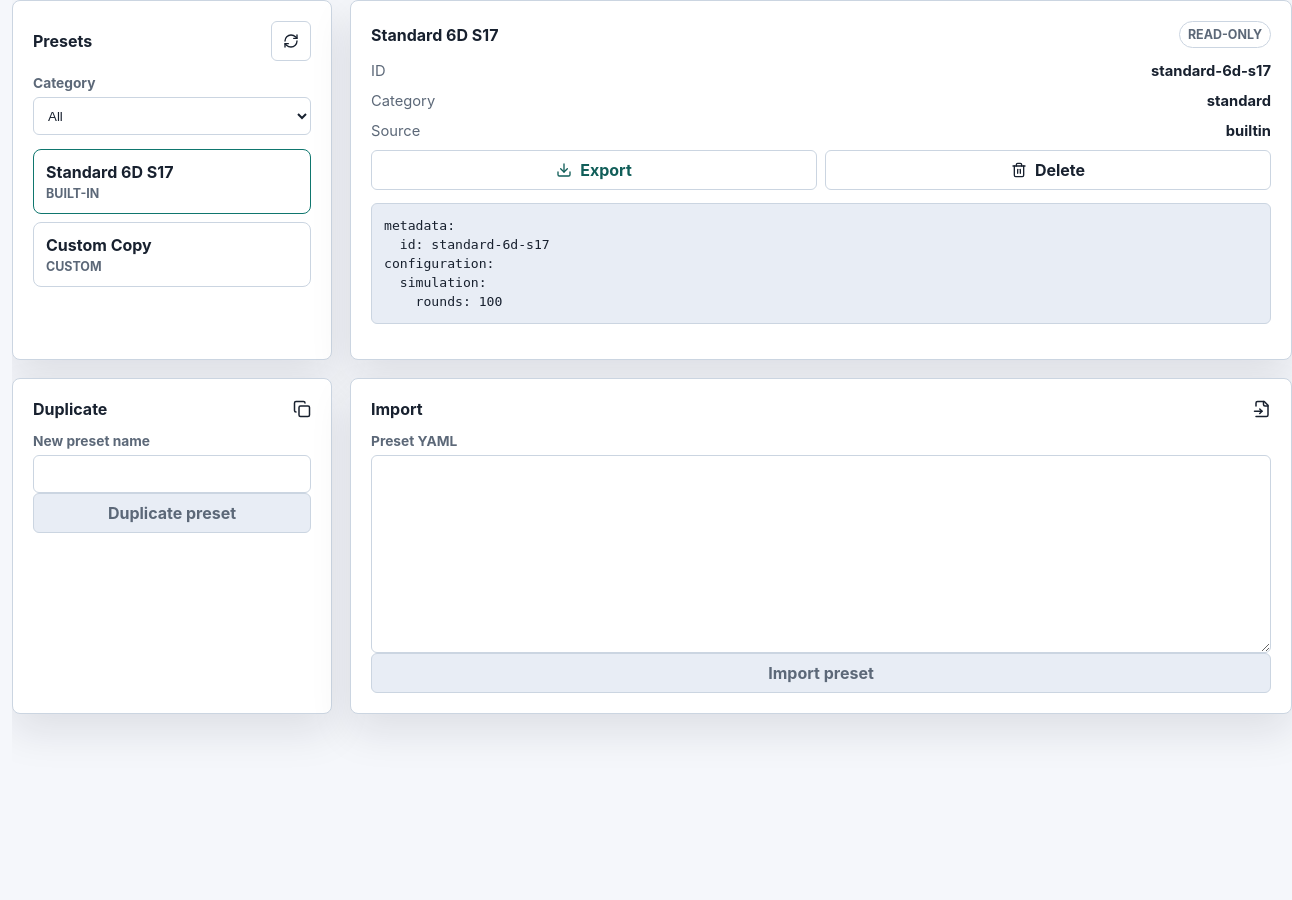
it: PresetsPage › loads presets and duplicates a built-in preset
The width and height of the screenshot is (1292, 900).
Check: the text "Standard 6D S17" is shown, box [46,162,174,182]
Check: the text "read-only" is shown, box [1179,21,1271,48]
In the field labelled "New preset name": (172, 474) [33,455,311,493], type "Custom Copy"
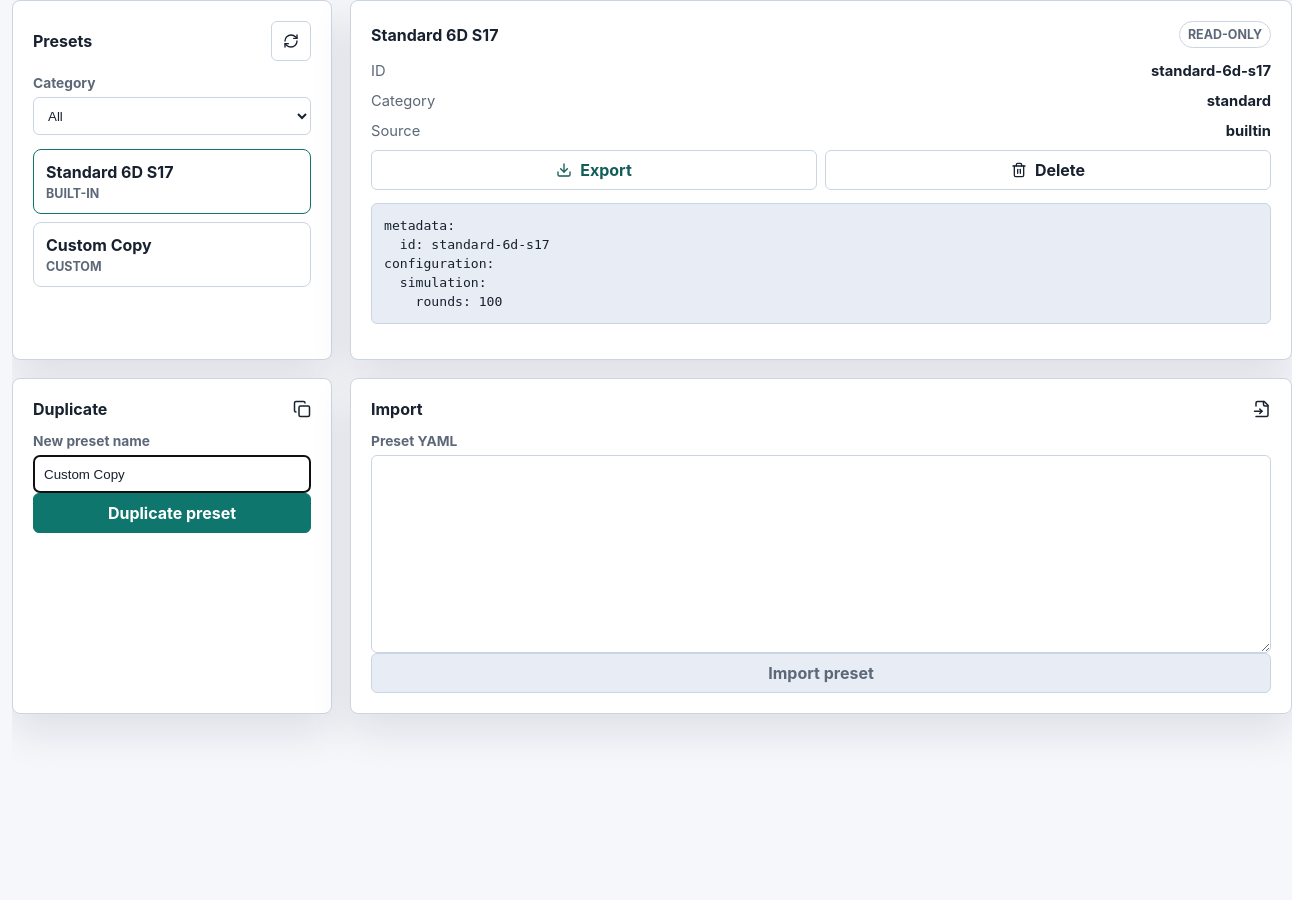
Click the button "Duplicate preset": (172, 513) [33,493,311,533]
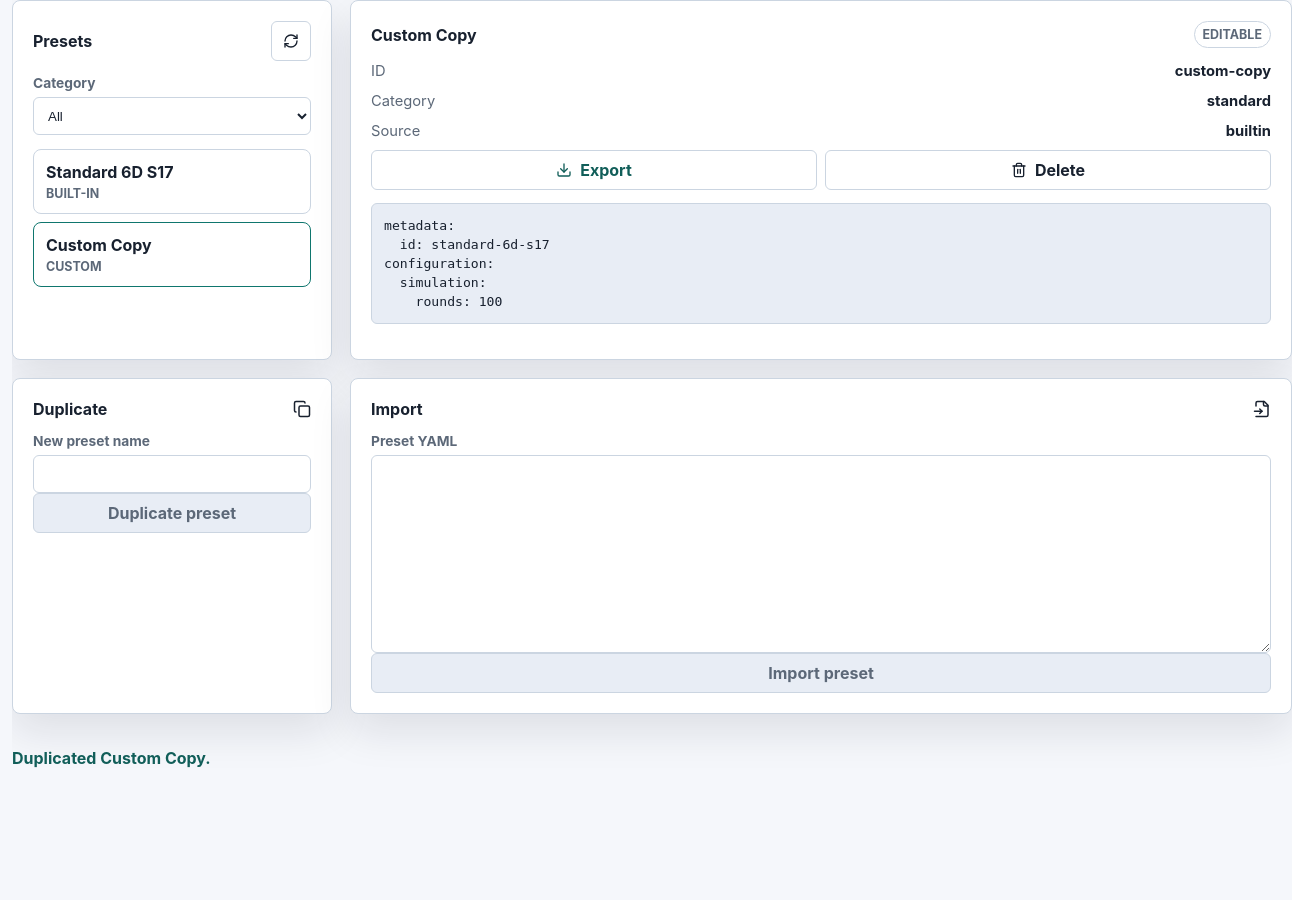
Check: the text "Duplicated Custom Copy." is shown, box [12,748,211,768]
